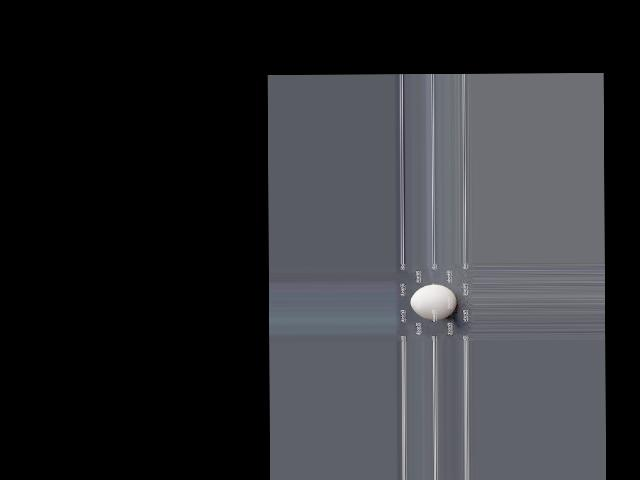egg: (410, 284, 457, 320)
